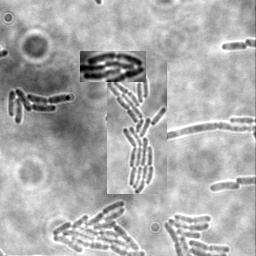Dividing: (168, 123, 255, 142), (221, 41, 248, 52)
Microcolony: (107, 60, 167, 194), (51, 200, 147, 255), (162, 212, 231, 255), (8, 89, 72, 126), (80, 51, 146, 82), (208, 182, 240, 193)
